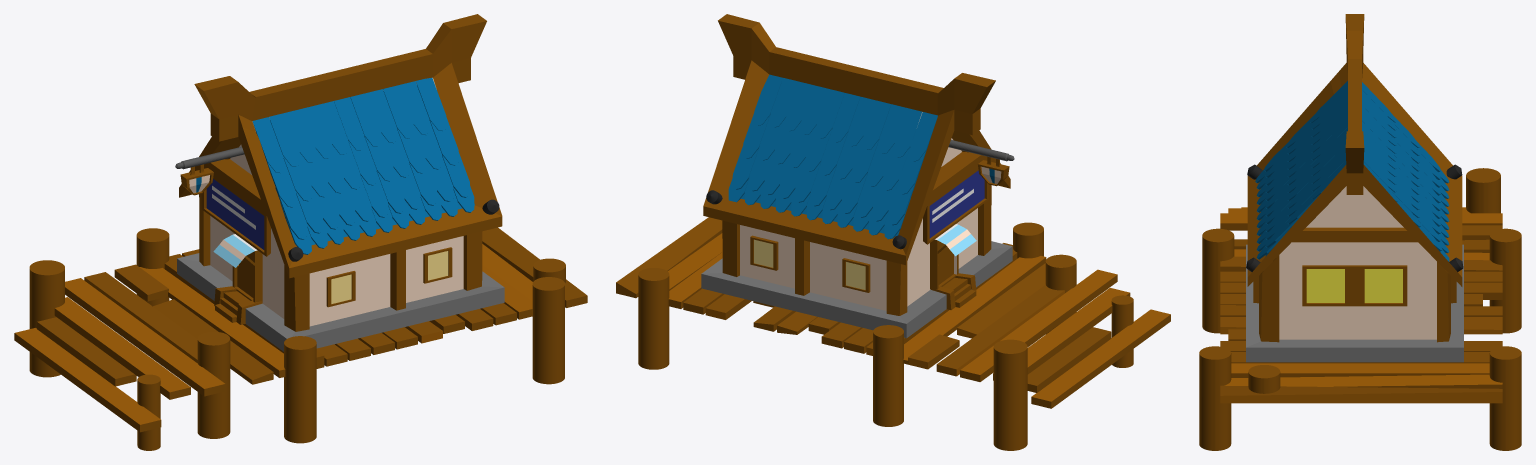
Rendered from fishercabin.glb.
The picture shows the model from 3 angles, left to right: view 1: azimuth 30°, elevation 25°; view 2: azimuth 150°, elevation 25°; view 3: azimuth 270°, elevation 25°; orthographic projection. The views are drawn at different scales.
Parts seen in each view (by area): view 1: Cube, Cube.001; view 2: Cube, Cube.001; view 3: Cube, Cube.001.
Boxes of the visible parts, bbox=[...] form: Cube: bbox=[175, 14, 504, 351]; Cube.001: bbox=[14, 227, 587, 450]; Cube: bbox=[701, 14, 1014, 338]; Cube.001: bbox=[616, 217, 1170, 450]; Cube: bbox=[1246, 14, 1463, 362]; Cube.001: bbox=[1199, 168, 1521, 450].
Size of the model in its own units: 15.98 by 10.7 by 10.32.
Materials: 1 (1 with a texture image).
